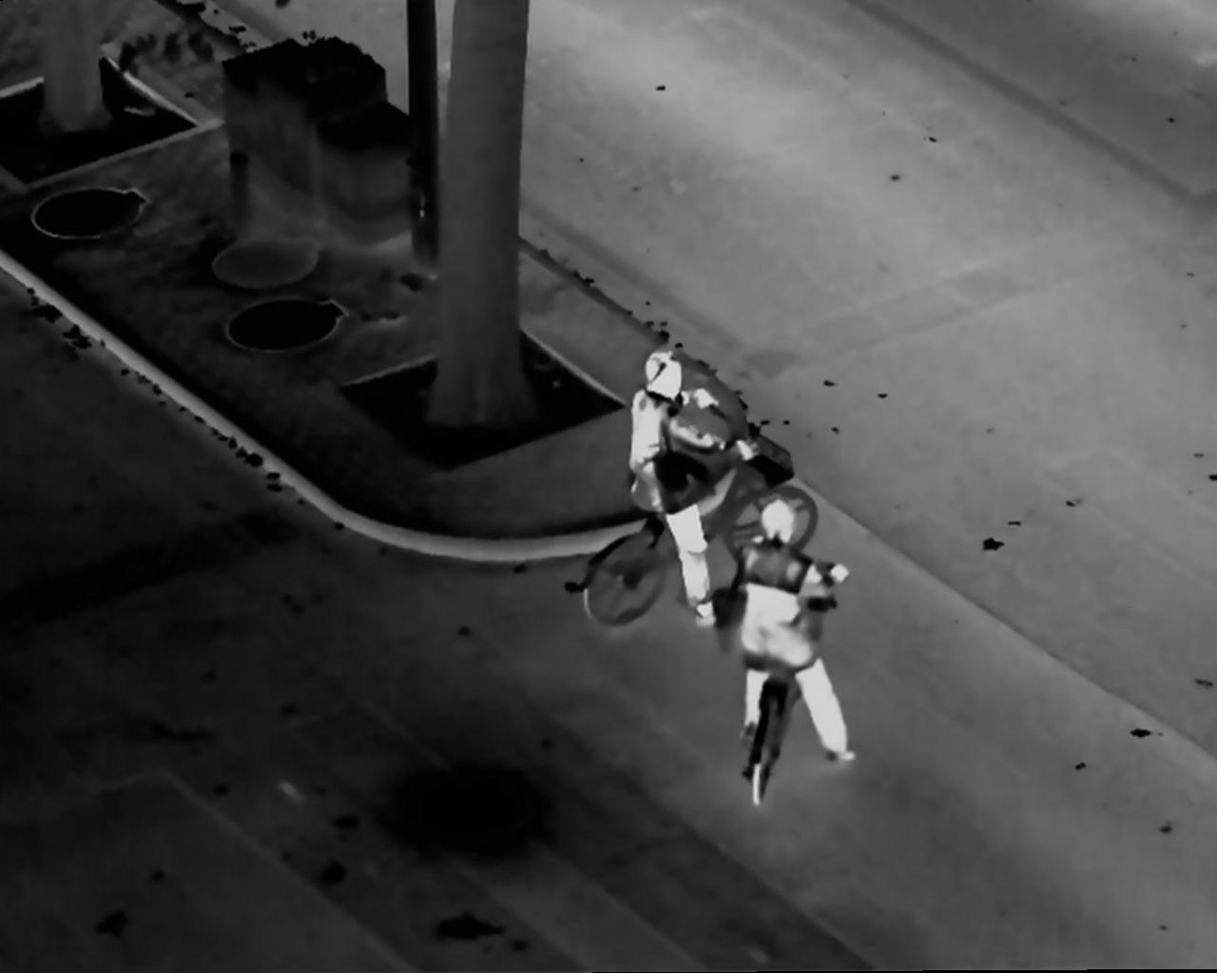person: (738, 498, 859, 771), (623, 351, 729, 638)
